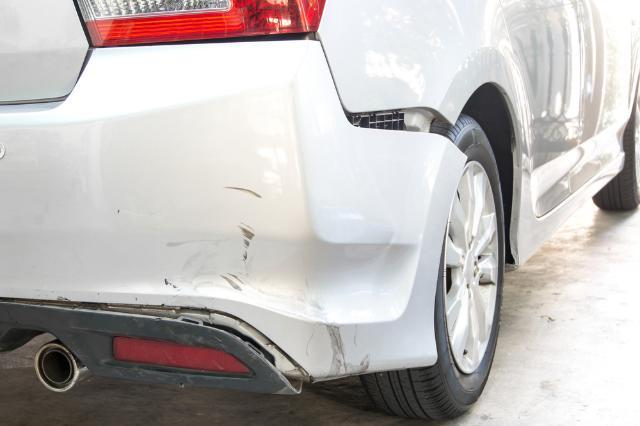dislocated part: (94, 33, 471, 381)
scratch: (157, 179, 376, 382)
